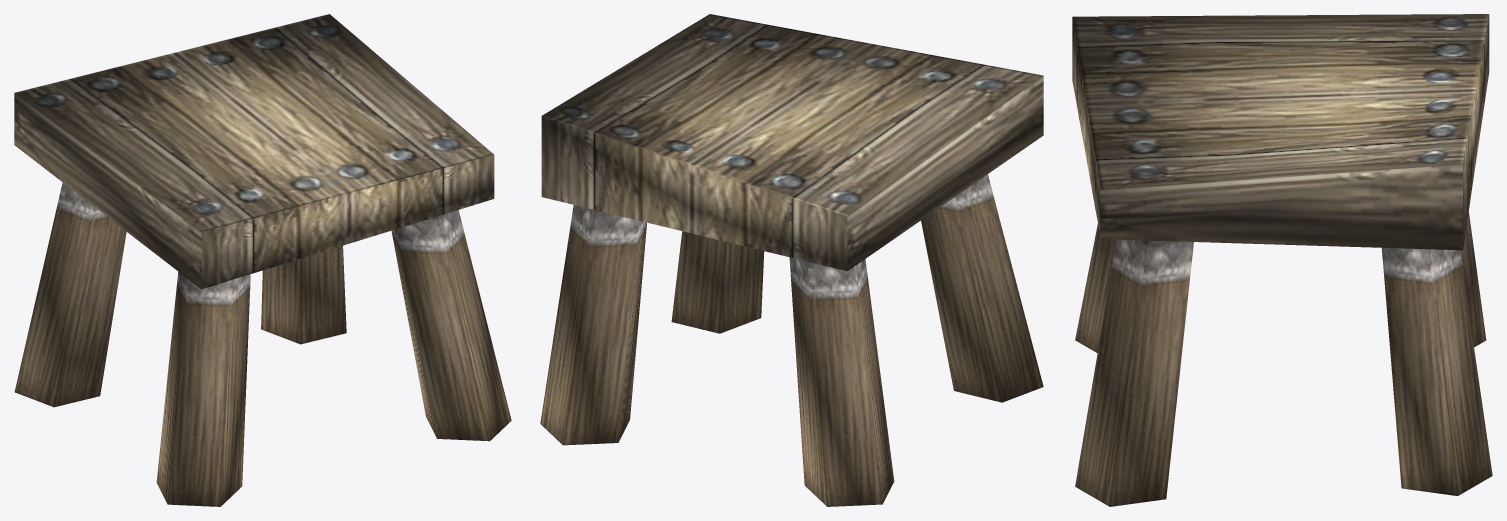
The model's file is westfallchair.obj.
The picture shows the model from 3 angles, left to right: view 1: azimuth 30°, elevation 25°; view 2: azimuth 150°, elevation 25°; view 3: azimuth 270°, elevation 25°; orthographic projection. The views are drawn at different scales.
Visible parts, largest first — view 1: westfallchair; view 2: westfallchair; view 3: westfallchair.
Boxes of the visible parts, bbox=[...] form: westfallchair: bbox=[14, 14, 511, 506]; westfallchair: bbox=[540, 14, 1043, 506]; westfallchair: bbox=[1072, 14, 1492, 506].
Bounding box in the file's own units: 0.6645 × 0.5471 × 0.6314.
Materials: 1 (1 with a texture image).
